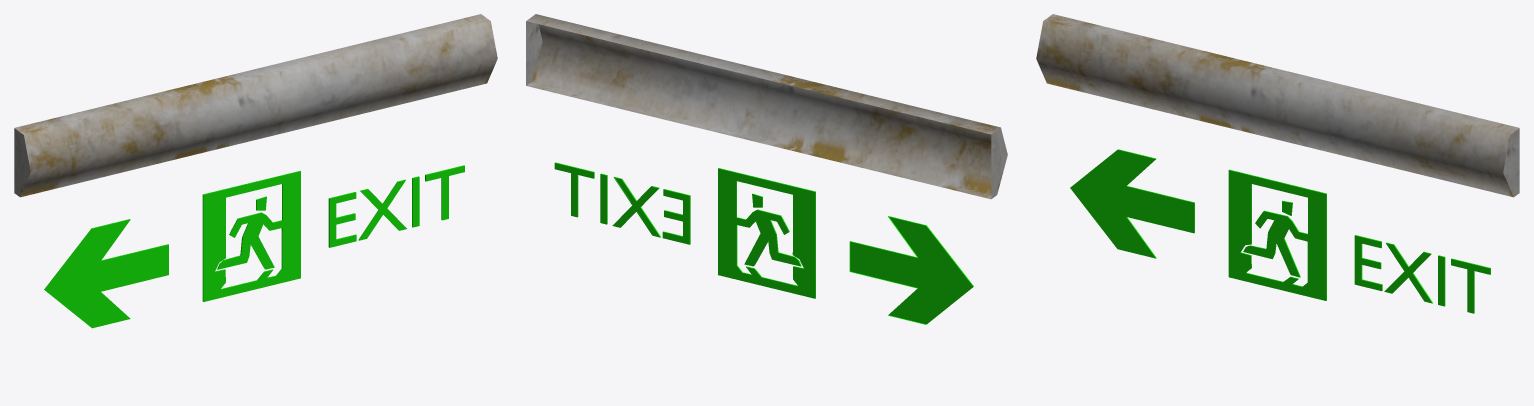
The model's file is Exit_Sign_3.fbx.
3 renders of one model, left to right at view 1: azimuth 30°, elevation 25°; view 2: azimuth 150°, elevation 25°; view 3: azimuth 330°, elevation 25°, orthographic.
Parts seen in each view (by area): view 1: Cube, Plane, Plane.001, Plane.002; view 2: Cube, Plane, Plane.001, Plane.002; view 3: Cube, Plane, Plane.001, Plane.002.
Part boxes in pixels (box(x1,y1,x2,y2)): Cube: box(14, 14, 497, 197); Plane: box(202, 171, 300, 301); Plane.001: box(44, 219, 168, 328); Plane.002: box(328, 165, 464, 247); Cube: box(526, 14, 1007, 199); Plane: box(718, 168, 815, 298); Plane.001: box(849, 216, 973, 324); Plane.002: box(554, 162, 690, 244); Cube: box(1036, 14, 1519, 197); Plane: box(1228, 169, 1326, 300); Plane.001: box(1070, 149, 1194, 258); Plane.002: box(1354, 235, 1490, 313).
Bounding box in the file's own units: 409 × 219 × 25.32.
Materials: 2 (1 with a texture image).
